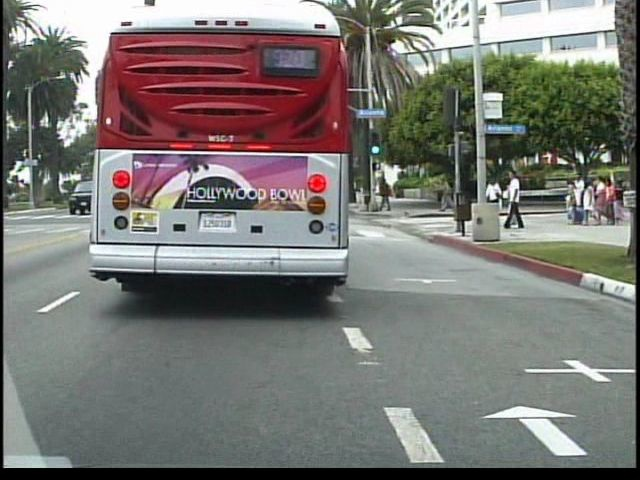person: (504, 166, 528, 233), (486, 174, 507, 222), (377, 176, 398, 216), (440, 175, 457, 215)
